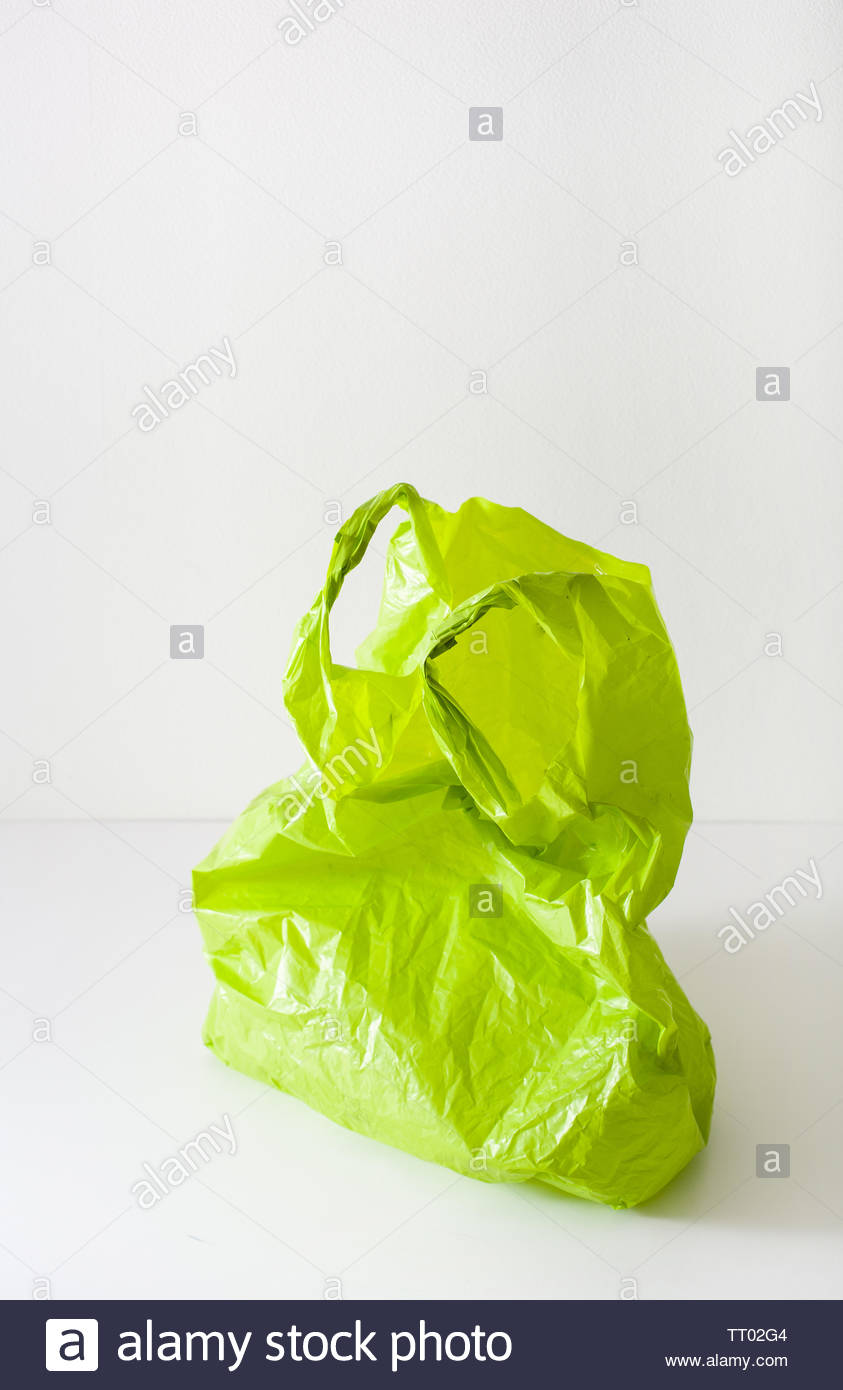plastic_bag: (181, 478, 752, 1228)
